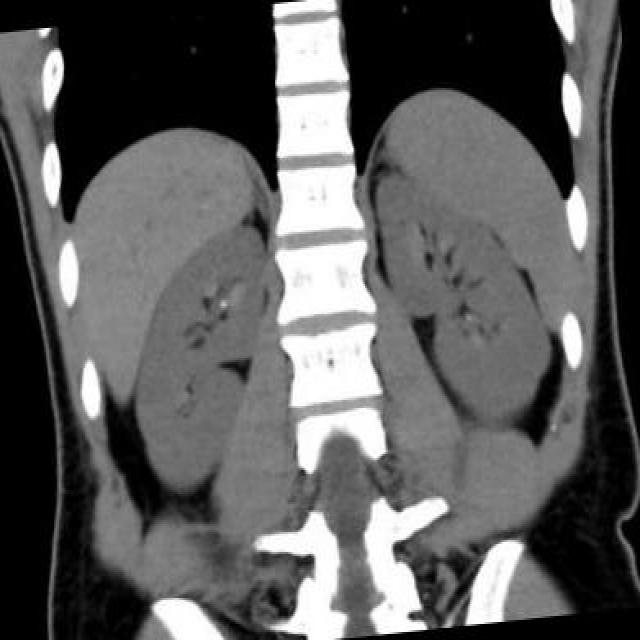Tas_Var: (216, 296, 232, 314), (464, 312, 472, 322)
